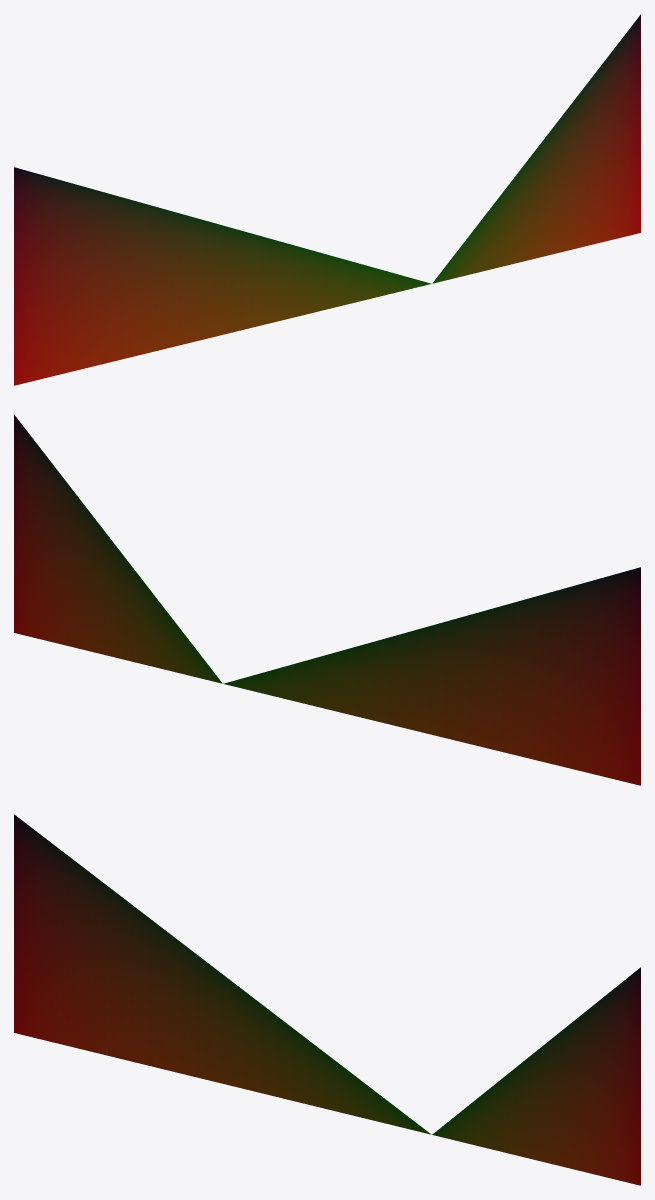
Rendered from rich.glb.
3 renders of one model, top to bottom at view 1: azimuth 30°, elevation 25°; view 2: azimuth 150°, elevation 25°; view 3: azimuth 330°, elevation 25°, orthographic.
Visible parts, largest first — view 1: Twin panels, Mirrored panels; view 2: Twin panels, Mirrored panels; view 3: Twin panels, Mirrored panels.
Part boxes in pixels (bbox=[...]): Twin panels: bbox=[14, 167, 431, 385]; Mirrored panels: bbox=[432, 14, 640, 283]; Twin panels: bbox=[223, 567, 640, 785]; Mirrored panels: bbox=[14, 414, 222, 683]; Twin panels: bbox=[14, 814, 431, 1134]; Mirrored panels: bbox=[432, 967, 640, 1185].
Bounding box in the file's own units: 3 × 1 × 0.
2 materials, 1 textured.
